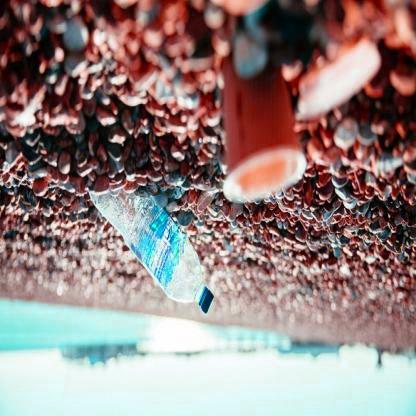Plastic: (86, 183, 216, 317), (218, 70, 312, 206)
